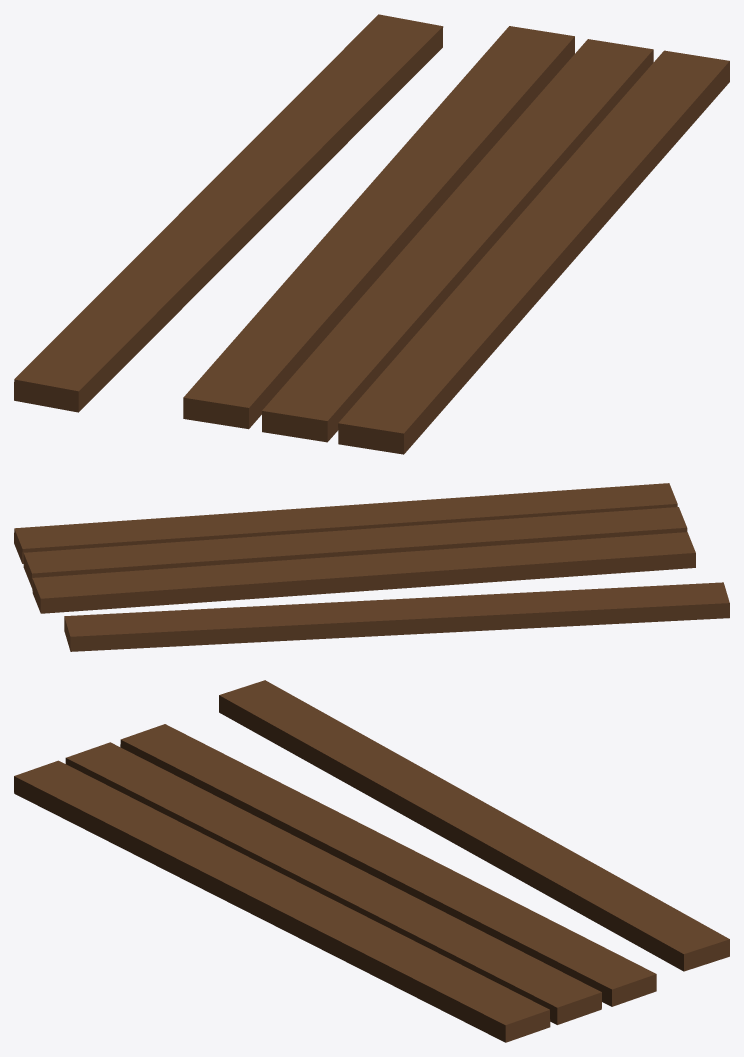
Rendered from Plate_.fbx.
3 renders of one model, top to bottom at view 1: azimuth 30°, elevation 25°; view 2: azimuth 150°, elevation 25°; view 3: azimuth 270°, elevation 25°, orthographic. The views are drawn at different scales.
Visible parts, largest first — view 1: Plate; view 2: Plate; view 3: Plate.
Part boxes in pixels (bbox=[...]): Plate: bbox=[14, 14, 729, 454]; Plate: bbox=[14, 483, 729, 651]; Plate: bbox=[14, 680, 729, 1042].
Bounding box in the file's own units: 10.91 × 0.2841 × 9.52.
